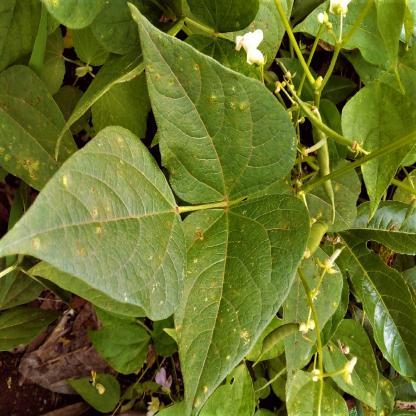Beans_Rust: (0, 124, 187, 320), (125, 8, 293, 206), (172, 194, 313, 414), (0, 64, 76, 191)
